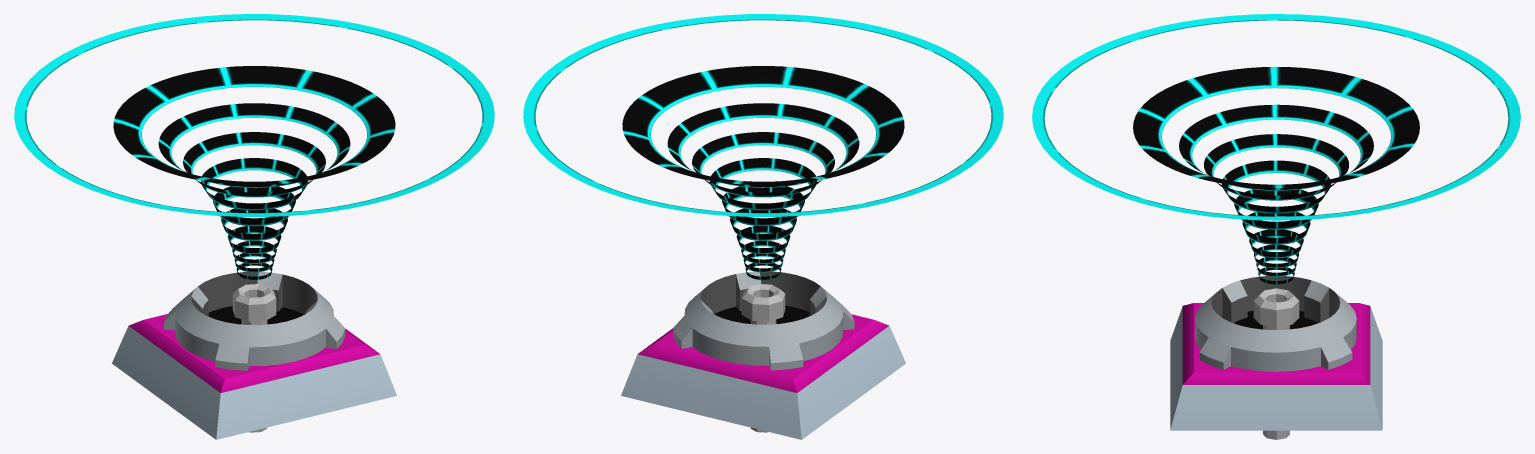
File: Blaackhole.fbx
The picture shows the model from 3 angles, left to right: view 1: azimuth 30°, elevation 25°; view 2: azimuth 150°, elevation 25°; view 3: azimuth 270°, elevation 25°; orthographic projection.
Parts seen in each view (by area): view 1: bhole1, Blaackhole, base, pump6, pCylinder50; view 2: bhole1, Blaackhole, base, pump6, pCylinder50; view 3: bhole1, Blaackhole, base, pump6, pCylinder50.
Part boxes in pixels (left/top/right/bottom): bhole1: left=14, top=14, right=494, bottom=279; Blaackhole: left=112, top=314, right=396, bottom=439; base: left=164, top=272, right=345, bottom=370; pump6: left=232, top=284, right=276, bottom=432; pCylinder50: left=208, top=306, right=304, bottom=324; bhole1: left=523, top=14, right=1003, bottom=279; Blaackhole: left=621, top=314, right=905, bottom=439; base: left=673, top=271, right=854, bottom=370; pump6: left=741, top=284, right=785, bottom=432; pCylinder50: left=714, top=305, right=809, bottom=323; bhole1: left=1032, top=14, right=1520, bottom=284; Blaackhole: left=1170, top=303, right=1382, bottom=430; base: left=1195, top=276, right=1356, bottom=371; pump6: left=1253, top=288, right=1299, bottom=439; pCylinder50: left=1233, top=310, right=1317, bottom=329.
Bounding box in the file's own units: 4.46 × 3.19 × 4.46.
Materials: 7 (1 with a texture image).
